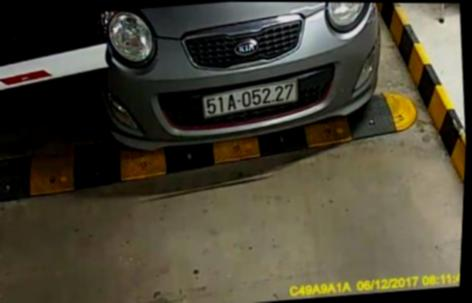License_Plate: (202, 80, 304, 116)
